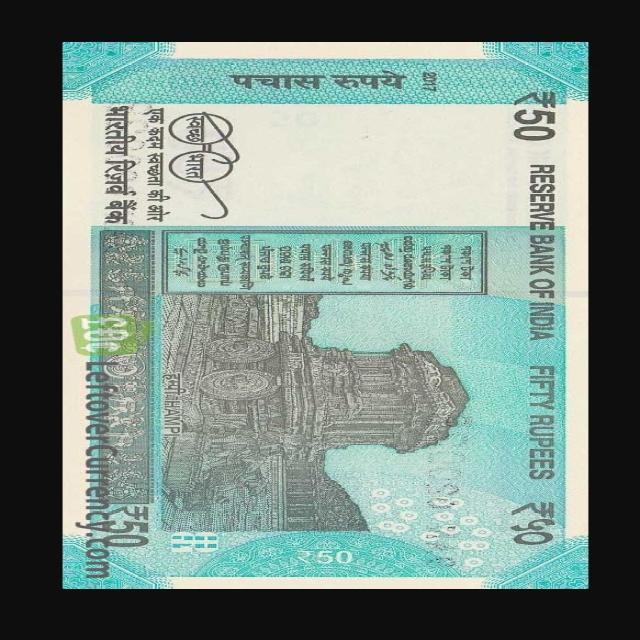50IndianRupees: (59, 41, 584, 588)
